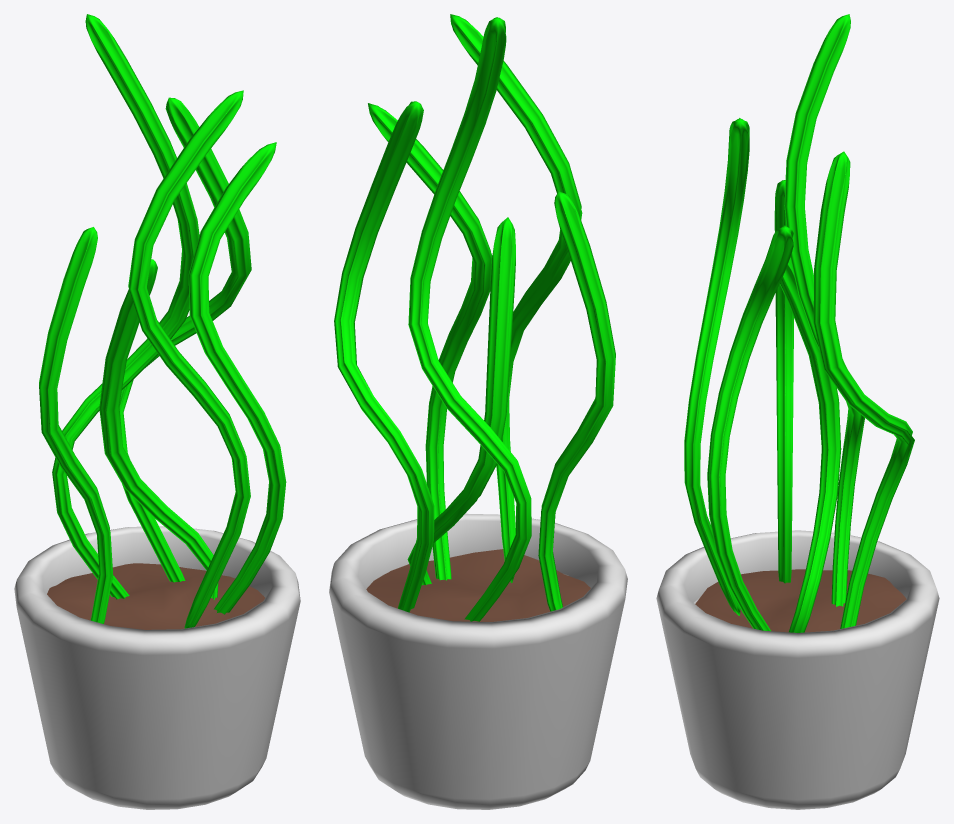
Rendered from Plantes.fbx.
3 views of the same model, side by side, from view 1: azimuth 30°, elevation 25°; view 2: azimuth 150°, elevation 25°; view 3: azimuth 270°, elevation 25° (orthographic). The views are drawn at different scales.
Visible parts, largest first — view 1: pCylinder12, sweep1, sweep3, sweep4, pDisc1, sweep5, sweep6, sweep2; view 2: pCylinder12, sweep3, sweep6, sweep5, pDisc1, sweep4, sweep1, sweep2; view 3: pCylinder12, sweep6, sweep3, sweep1, sweep4, pDisc1, sweep2, sweep5.
Boxes of the visible parts, x1,y1,x2,y2 form: pCylinder12: (14, 526, 300, 809); sweep1: (128, 90, 250, 628); sweep3: (52, 14, 199, 599); sweep4: (188, 142, 286, 614); pDisc1: (47, 563, 264, 629); sweep5: (39, 227, 113, 623); sweep6: (119, 97, 251, 582); sweep2: (99, 259, 218, 599); pCylinder12: (329, 513, 627, 809); sweep3: (408, 17, 531, 621); sweep6: (334, 101, 434, 612); sweep5: (538, 191, 615, 611); pDisc1: (366, 549, 590, 621); sweep4: (368, 103, 492, 580); sweep1: (450, 14, 582, 582); sweep2: (407, 217, 515, 585); pCylinder12: (656, 530, 939, 809); sweep6: (813, 151, 914, 628); sweep3: (784, 14, 864, 606); sweep1: (684, 118, 749, 615); sweep4: (707, 225, 793, 631); pDisc1: (695, 569, 906, 632); sweep2: (779, 258, 841, 632); sweep5: (774, 180, 793, 583).
Size of the model in its own units: 0.4066 by 1.17 by 0.4061.
